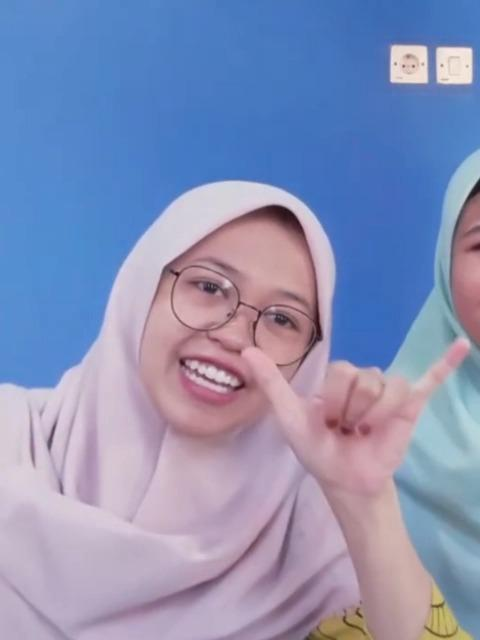Y: (241, 332, 477, 482)
